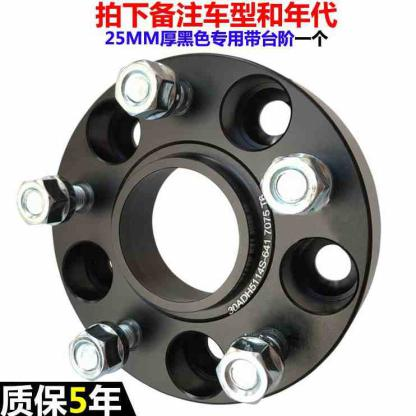FOD: (42, 47, 385, 409)
